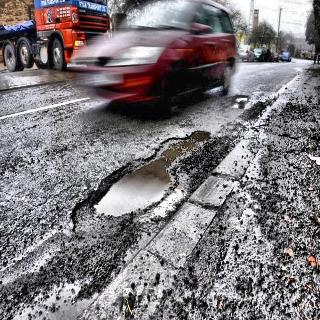pothole: (66, 125, 210, 249), (227, 88, 251, 113)
